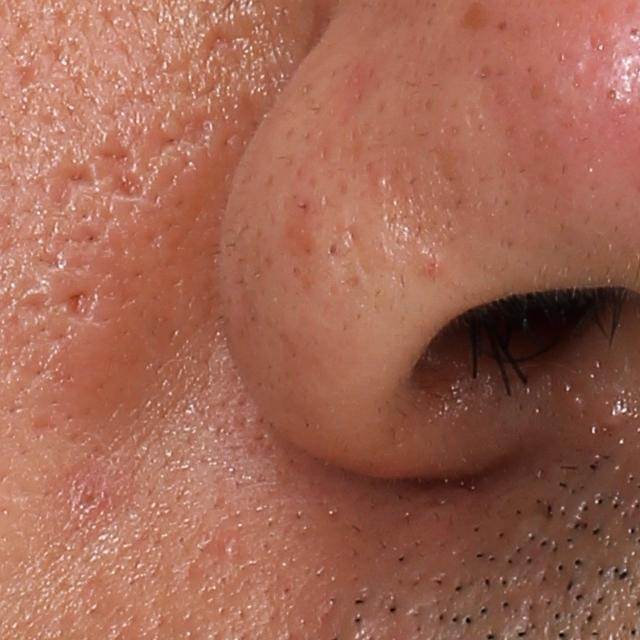atrophic_scar: (40, 94, 229, 211), (198, 24, 254, 65), (62, 292, 98, 331)
melasma: (456, 1, 489, 30)
